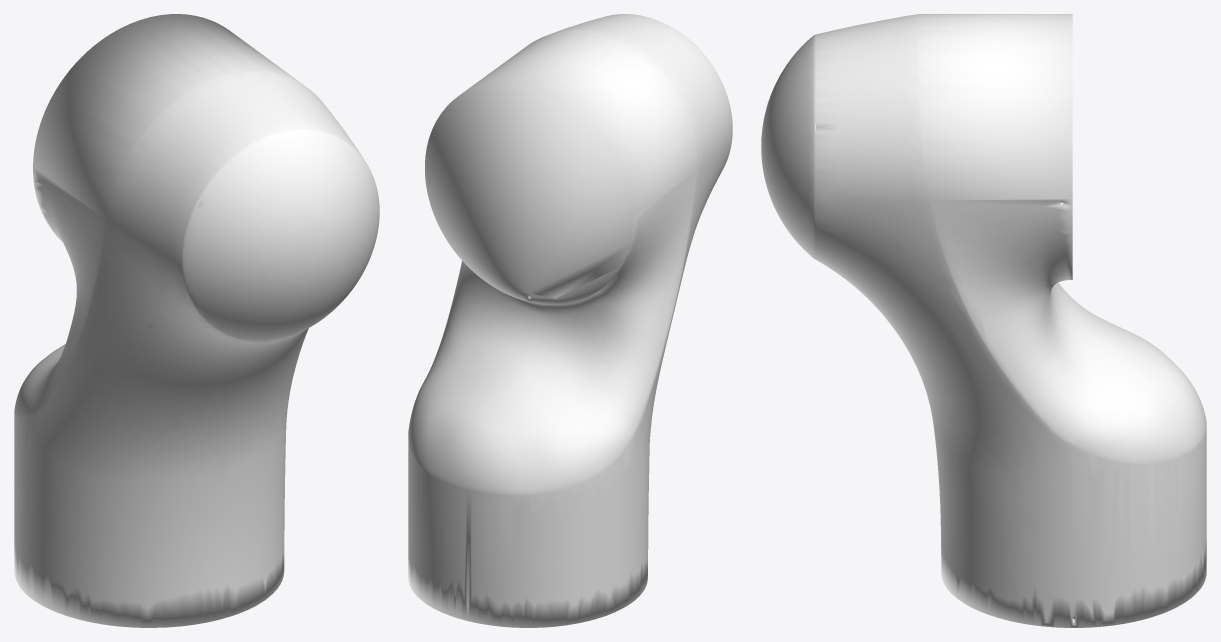
3 renders of one model, left to right at view 1: azimuth 30°, elevation 25°; view 2: azimuth 150°, elevation 25°; view 3: azimuth 270°, elevation 25°, orthographic. The views are drawn at different scales.
Visible parts, largest first — view 1: node0_Part__Feature024; view 2: node0_Part__Feature024; view 3: node0_Part__Feature024.
Boxes of the visible parts, bbox=[...] form: node0_Part__Feature024: bbox=[14, 14, 379, 627]; node0_Part__Feature024: bbox=[408, 14, 732, 627]; node0_Part__Feature024: bbox=[761, 14, 1206, 627].
Size of the model in its own units: 0.11 by 0.249 by 0.1844.
Materials: 1 (1 with a texture image).
